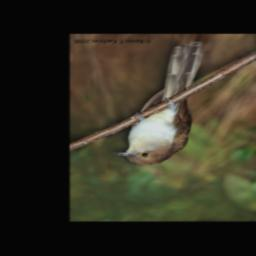Cuckoo: (115, 41, 205, 166)
